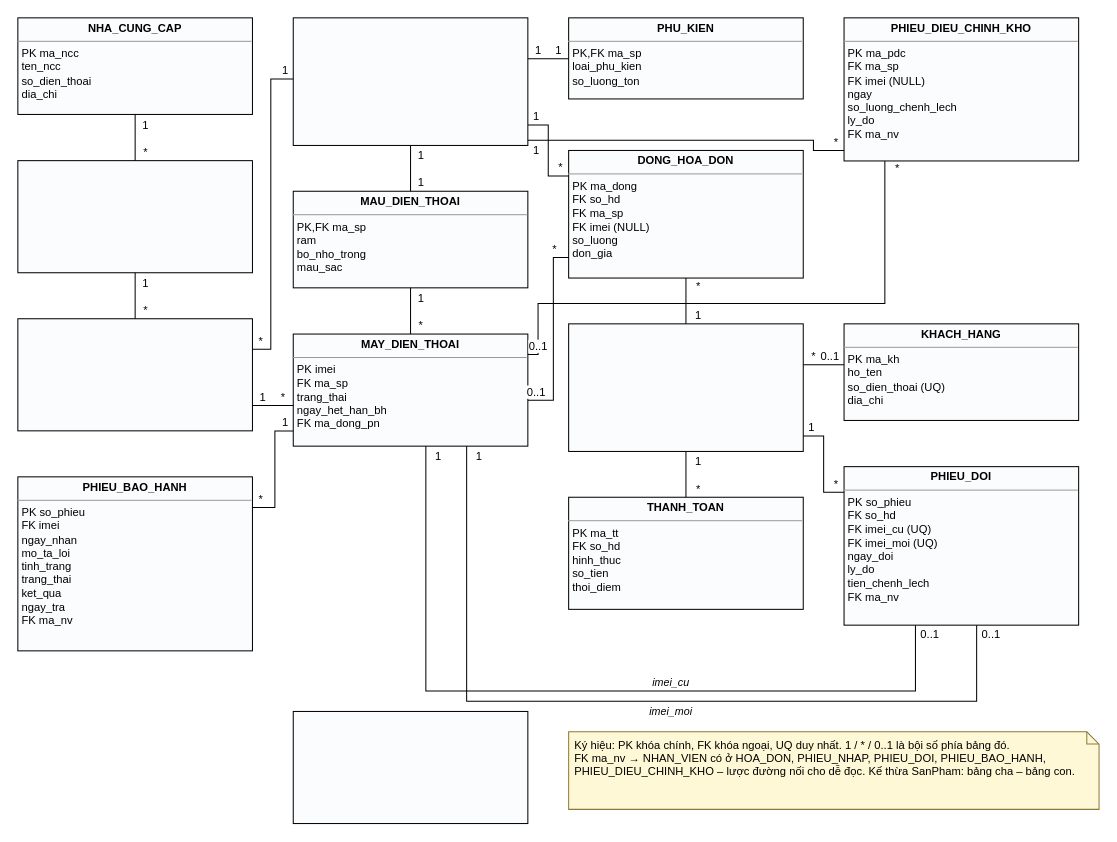
The diagram is 1117 pixels wide and 842 high, and some of its shapes have lost their labels. The shapes that lost their labels are listed below. From the top down, each one's box as (x1, y1, x2, y2) in pixels, then its label:
(292, 17, 528, 145): SAN_PHAM PK ma_sp ten_sp hang gia_ban thoi_han_bh loai (DT | PK)
(17, 160, 252, 273): PHIEU_NHAP PK so_phieu ngay_nhap FK ma_ncc FK ma_nv da_xac_nhan
(17, 318, 252, 431): DONG_PHIEU_NHAP PK ma_dong FK so_phieu FK ma_sp so_luong gia_nhap
(568, 323, 803, 451): HOA_DON PK so_hd ngay_lap ty_le_giam trang_thai FK ma_kh (NULL) FK ma_nv
(292, 710, 528, 824): NHAN_VIEN PK ma_nv ho_ten vai_tro ten_dang_nhap (UQ) mat_khau_hash
